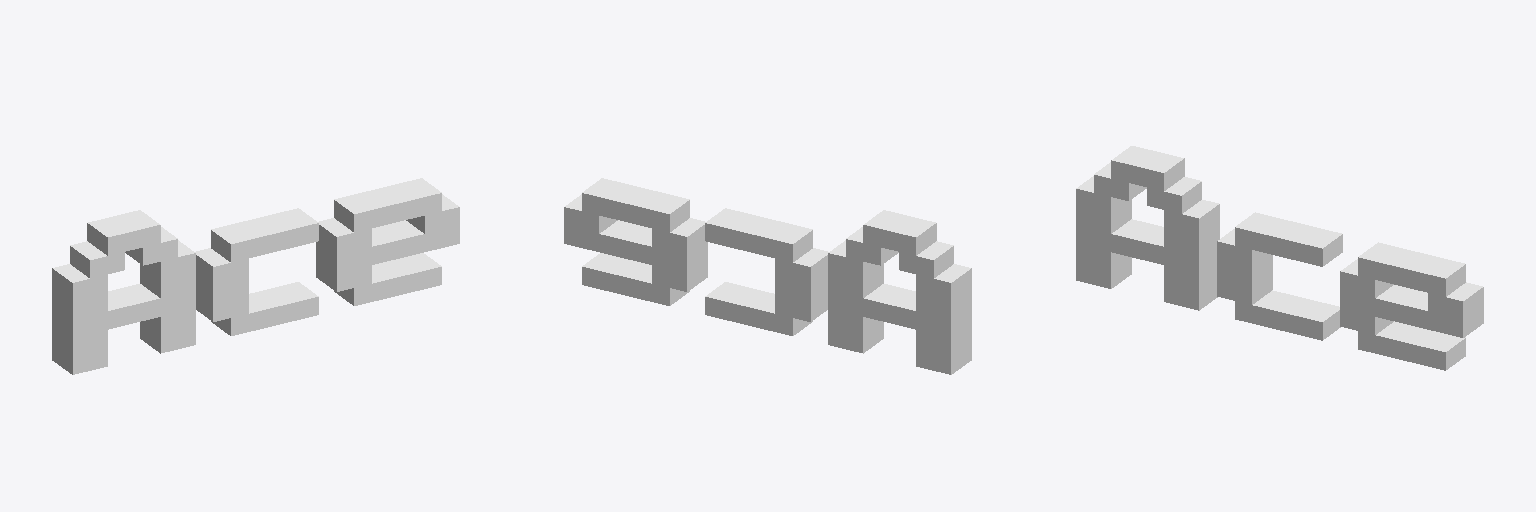
Rendered from Ace.obj.
3 renders of one model, left to right at view 1: azimuth 30°, elevation 25°; view 2: azimuth 150°, elevation 25°; view 3: azimuth 330°, elevation 25°, orthographic.
Parts seen in each view (by area): view 1: object 1; view 2: object 1; view 3: object 1.
Part boxes in pixels (left/top/right/bottom): object 1: left=52, top=178, right=459, bottom=374; object 1: left=564, top=178, right=971, bottom=374; object 1: left=1076, top=146, right=1483, bottom=370.
Bounding box in the file's own units: 2.2 × 0.7 × 0.2.